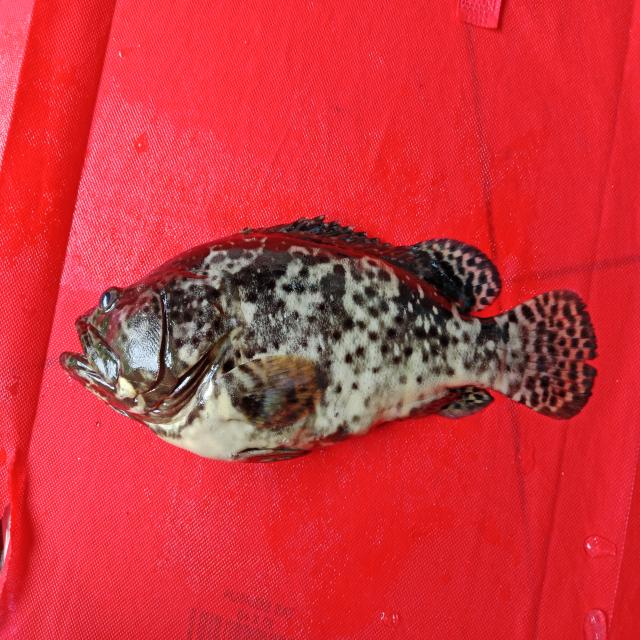ikan: (45, 208, 615, 475)
